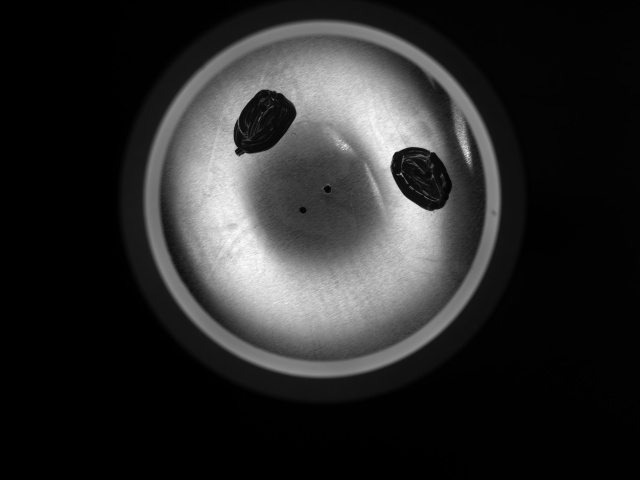zang_wu: (232, 88, 299, 158), (387, 146, 454, 213)
zhen_kong: (297, 202, 310, 217), (321, 183, 334, 196)
